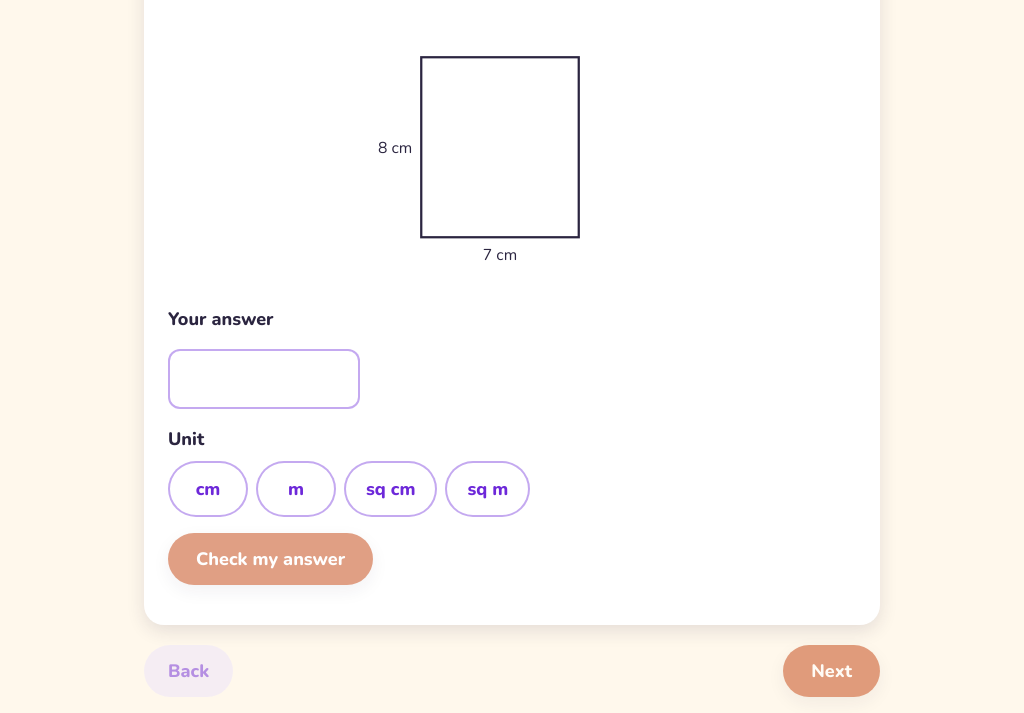
Buddy › rests when the model fails and makes no call for a non-number
Earlier steps of the test are not shown.
(page scrolled)
Type "abc" into the field labelled "Your answer".
click(264, 379); type("abc")  # box [168,349,360,409]
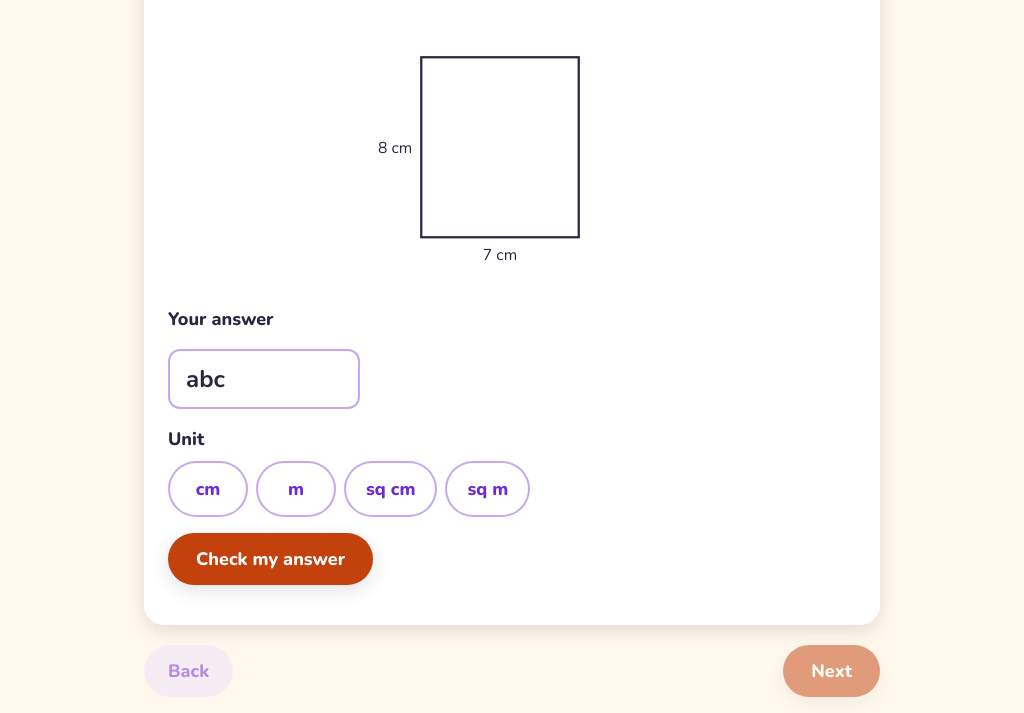
Click the button "cm".
click(208, 489)  # box [168,461,248,517]
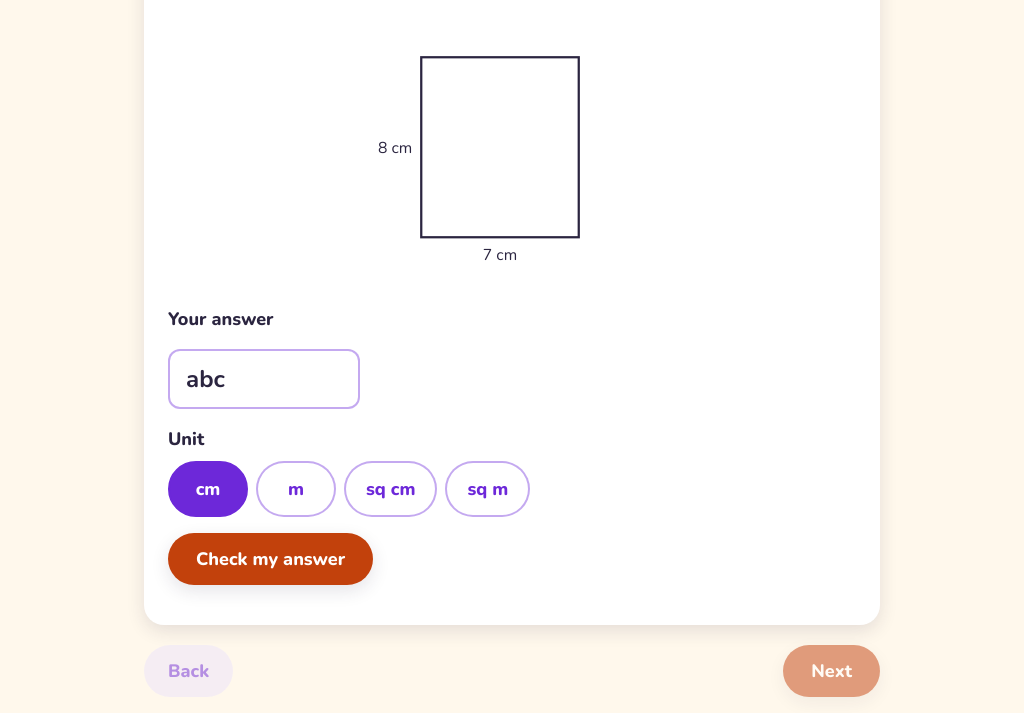
Click the button "Check my answer".
click(271, 559)  # box [168,533,373,585]
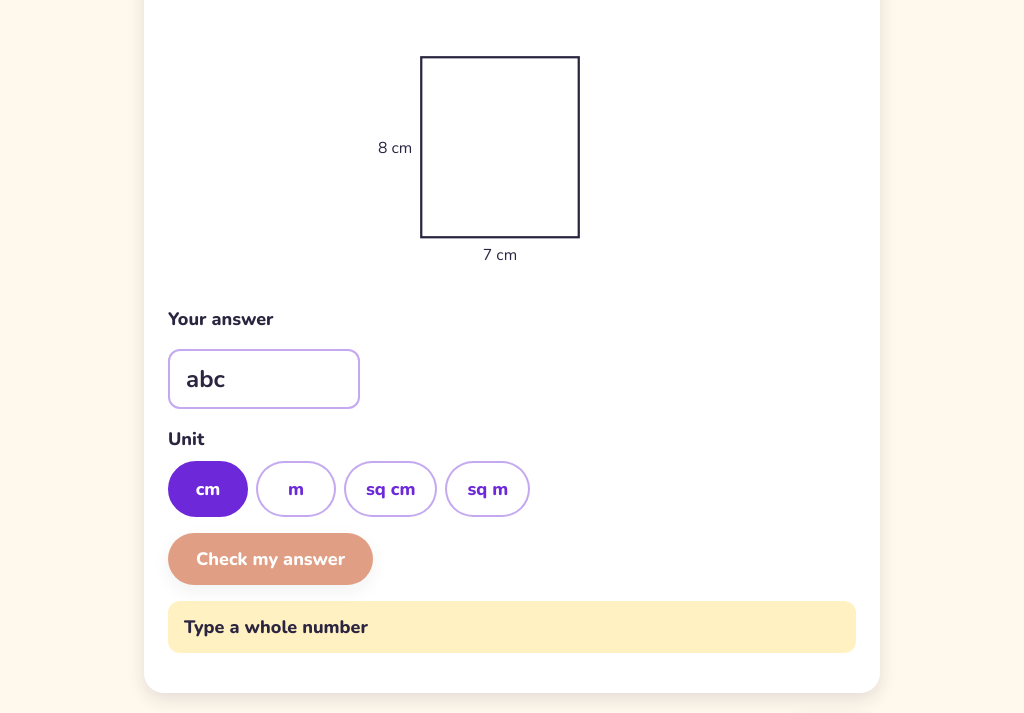
Replace the text in the field labelled "Your answer" with "1" at (264, 379), box [168,349,360,409]
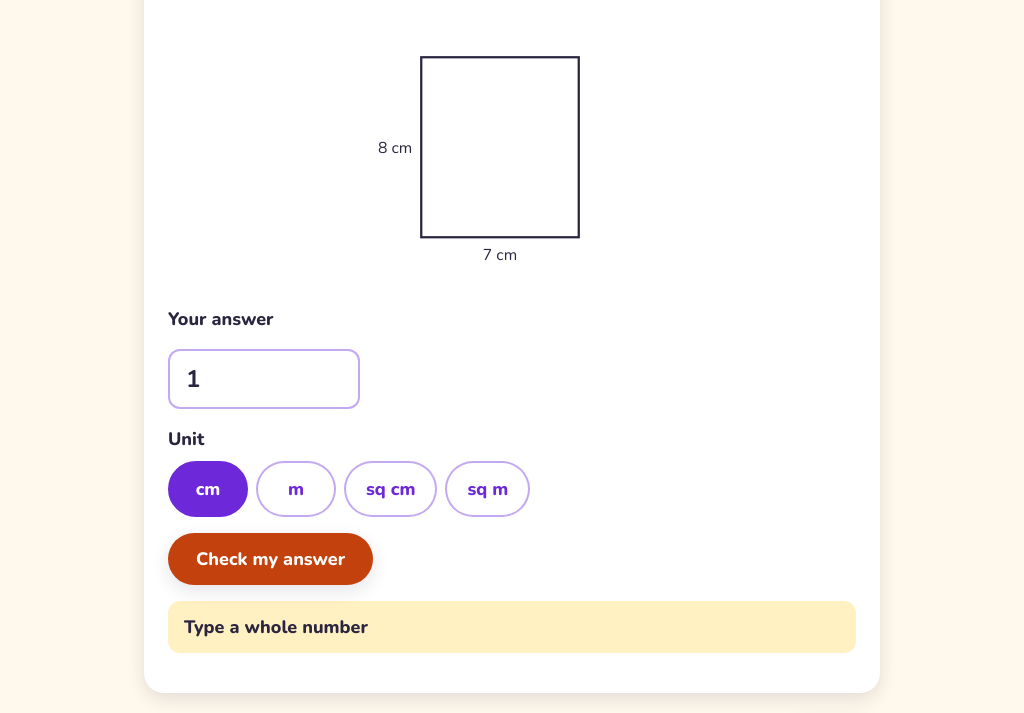
Click the button "cm".
click(208, 489)  # box [168,461,248,517]
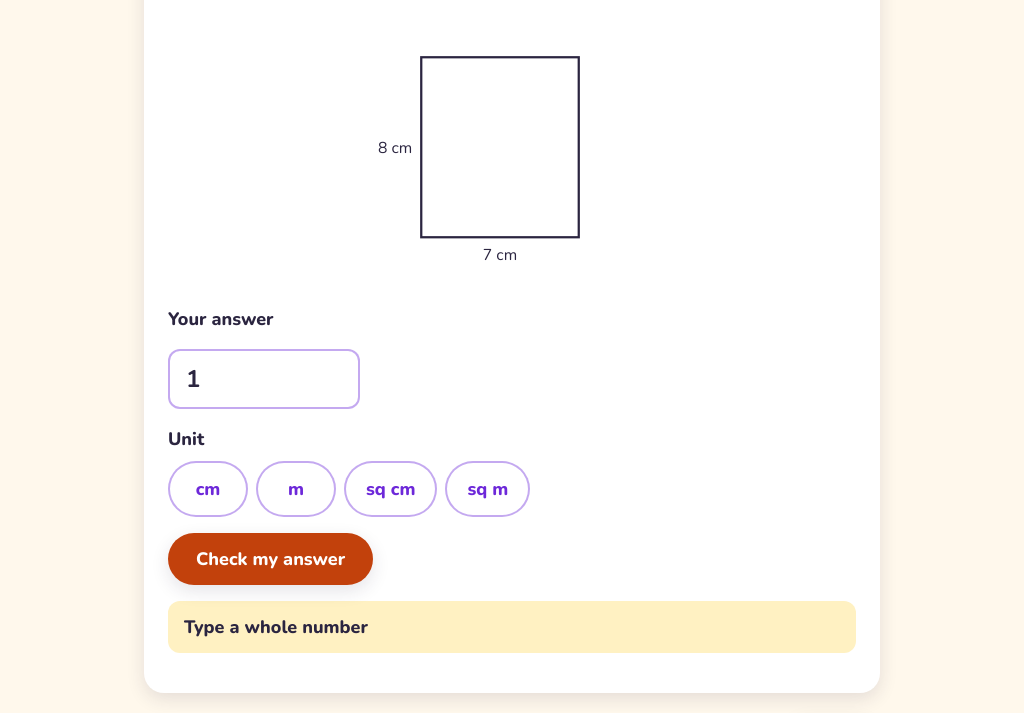
Click the button "Check my answer".
click(271, 559)  # box [168,533,373,585]
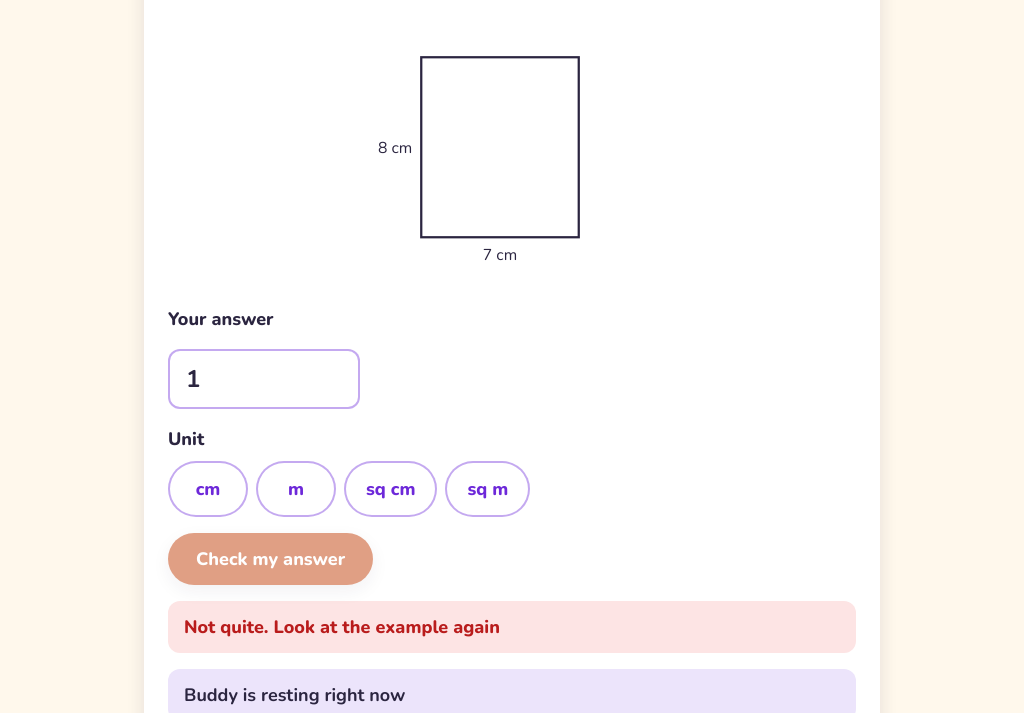
Now the text "Buddy is resting right now" is shown, box [184,683,405,707]
